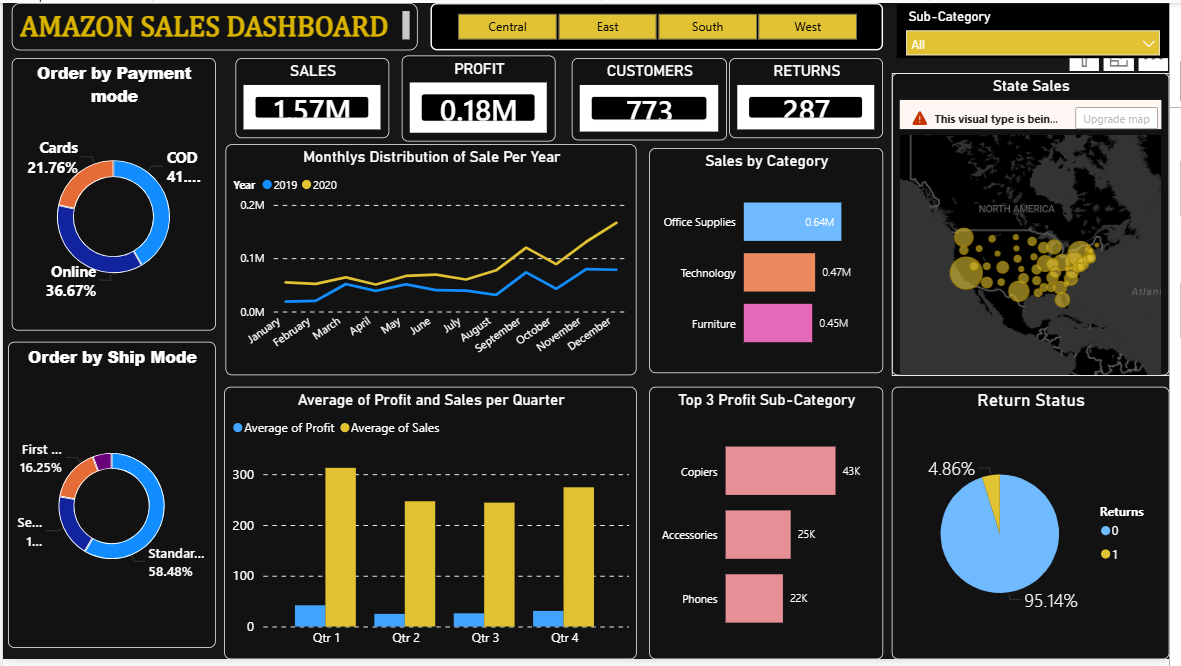

The dashboard page shown, as its layout file describes it:
{"tool":"powerbi","page":{"name":"Page 1","canvas":[1280,720],"ordinal":0},"visuals":[{"type":"textbox","box":[9.6,0,446,52.1],"z":0},{"type":"donutChart","title":"Order by Payment mode","fields":{"Category":["Sheet1.Payment Mode"],"Y":["CountNonNull(Sheet1.Order ID)"]},"box":[9.6,60.4,223.7,299.1],"z":1000},{"type":"donutChart","title":" Order  by Ship Mode","fields":{"Category":["Sheet1.Ship Mode"],"Y":["CountNonNull(Sheet1.Order ID)"]},"box":[5.5,371.9,227.8,336.2],"z":2000},{"type":"lineChart","title":"Monthlys Distribution of Sale Per Year","fields":{"Category":["Sheet1.Order Date.Variation.Date Hierarchy.Month"],"Y":["Sum(Sheet1.Sales)"],"Series":["Sheet1.Order Date.Variation.Date Hierarchy.Year"]},"box":[244.3,155.1,451.5,253.9],"z":3000},{"type":"clusteredColumnChart","title":"Average of Profit and Sales per Quarter","fields":{"Category":["Sheet1.Order Date.Variation.Date Hierarchy.Quarter"],"Y":["Avg(Sheet1.Profit)","Avg(Sheet1.Sales)"]},"box":[242.9,421.3,452.8,299.1],"z":4000},{"type":"map","title":" State Sales","fields":{"Category":["Sheet1.State"],"Size":["Sum(Sheet1.Sales)"]},"box":[975.6,76.8,304.6,332.1],"z":5000},{"type":"clusteredBarChart","title":"Sales by Category","fields":{"Category":["Sheet1.Category"],"Y":["Sum(Sheet1.Sales)"]},"box":[709.4,159.2,256.6,247],"z":5001},{"type":"clusteredBarChart","title":"Top 3 Profit Sub-Category","fields":{"Category":["Sheet1.Sub-Category"],"Y":["Sum(Sheet1.Profit)"]},"box":[709.4,421.3,256.6,299.1],"z":5002},{"type":"pieChart","title":"Return Status","fields":{"Category":["Sheet1.Returns"],"Y":["CountNonNull(Sheet1.Customer ID)"]},"box":[975.6,421.3,304.6,299.1],"z":5003},{"type":"cardVisual","title":"SALES","fields":{"Data":["Sum(Sheet1.Sales)"]},"box":[255.2,60.4,168.8,87.8],"z":5004},{"type":"cardVisual","title":"PROFIT","fields":{"Data":["Sum(Sheet1.Profit)"]},"box":[437.7,57.6,168.8,94.7],"z":5005},{"type":"cardVisual","title":"CUSTOMERS","fields":{"Data":["Count(Sheet1.Customer ID)"]},"box":[624.4,60.4,170.2,90.6],"z":5006},{"type":"cardVisual","title":"RETURNS","fields":{"Data":["Sum(Sheet1.Returns)"]},"box":[797.3,60.4,168.8,87.8],"z":5007},{"type":"slicer","fields":{"Values":["Sheet1.Region"]},"box":[469.3,0,496.7,52.1],"z":5008},{"type":"slicer","fields":{"Values":["Sheet1.Sub-Category"]},"box":[981.1,1.4,299.1,59],"z":5009}]}

Visuals, with their boxes in screenshot pixels (x1, y1, x2, y2), scaled from the page's 1280x720 canvas onto the 1181x666 screenshot:
textbox: left=9, top=0, right=420, bottom=48
"Order by Payment mode" donutChart: left=9, top=56, right=215, bottom=333
" Order  by Ship Mode" donutChart: left=5, top=344, right=215, bottom=655
"Monthlys Distribution of Sale Per Year" lineChart: left=225, top=143, right=642, bottom=378
"Average of Profit and Sales per Quarter" clusteredColumnChart: left=224, top=390, right=642, bottom=665
" State Sales" map: left=900, top=71, right=1180, bottom=378
"Sales by Category" clusteredBarChart: left=655, top=147, right=891, bottom=376
"Top 3 Profit Sub-Category" clusteredBarChart: left=655, top=390, right=891, bottom=665
"Return Status" pieChart: left=900, top=390, right=1180, bottom=665
"SALES" cardVisual: left=235, top=56, right=391, bottom=137
"PROFIT" cardVisual: left=404, top=53, right=560, bottom=141
"CUSTOMERS" cardVisual: left=576, top=56, right=733, bottom=140
"RETURNS" cardVisual: left=736, top=56, right=891, bottom=137
slicer - Sheet1.Region: left=433, top=0, right=891, bottom=48
slicer - Sheet1.Sub-Category: left=905, top=1, right=1180, bottom=56
